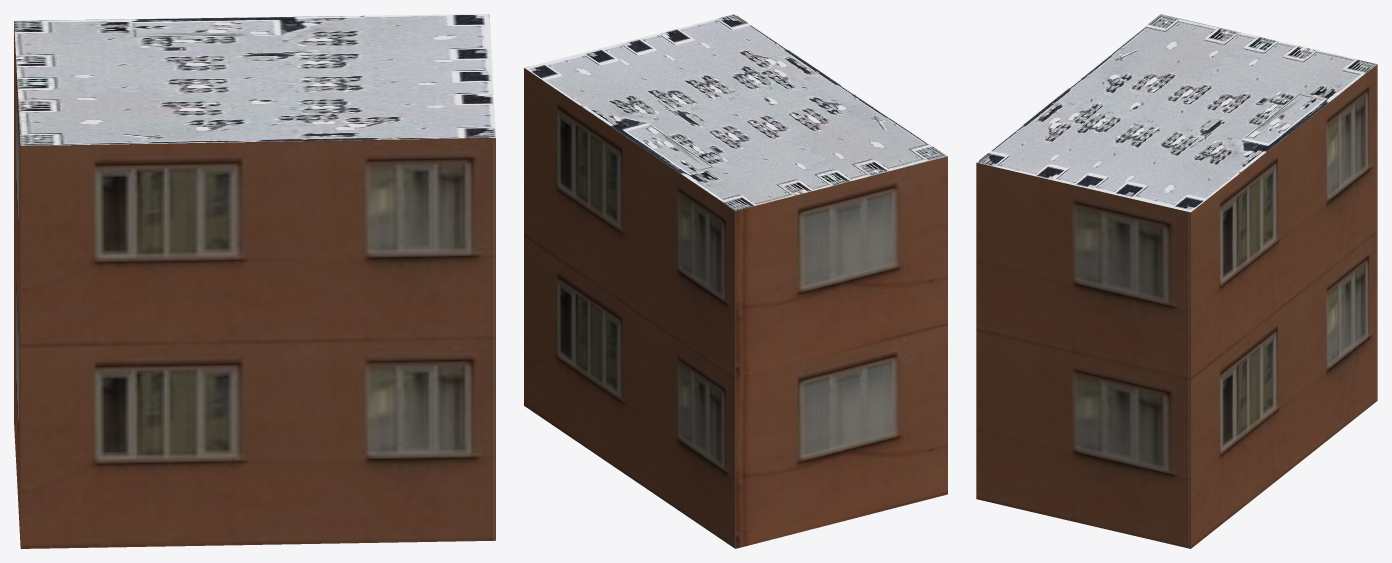
The model's file is ResTex__1203.fbx.
3 renders of one model, left to right at view 1: azimuth 30°, elevation 25°; view 2: azimuth 150°, elevation 25°; view 3: azimuth 270°, elevation 25°, orthographic. The views are drawn at different scales.
Visible parts, largest first — view 1: CityEngineMaterial_20_m, CityEngineMaterial_m; view 2: CityEngineMaterial_20_m, CityEngineMaterial_m; view 3: CityEngineMaterial_20_m, CityEngineMaterial_m.
Boxes of the visible parts, x1,y1,x2,y2 form: CityEngineMaterial_20_m: (14, 22, 495, 548); CityEngineMaterial_m: (14, 14, 495, 145); CityEngineMaterial_20_m: (524, 68, 947, 548); CityEngineMaterial_m: (524, 14, 947, 210); CityEngineMaterial_20_m: (976, 64, 1377, 548); CityEngineMaterial_m: (977, 14, 1377, 212).
Bounding box in the file's own units: 7.59 × 6 × 6.49.
Materials: 2 (2 with a texture image).
